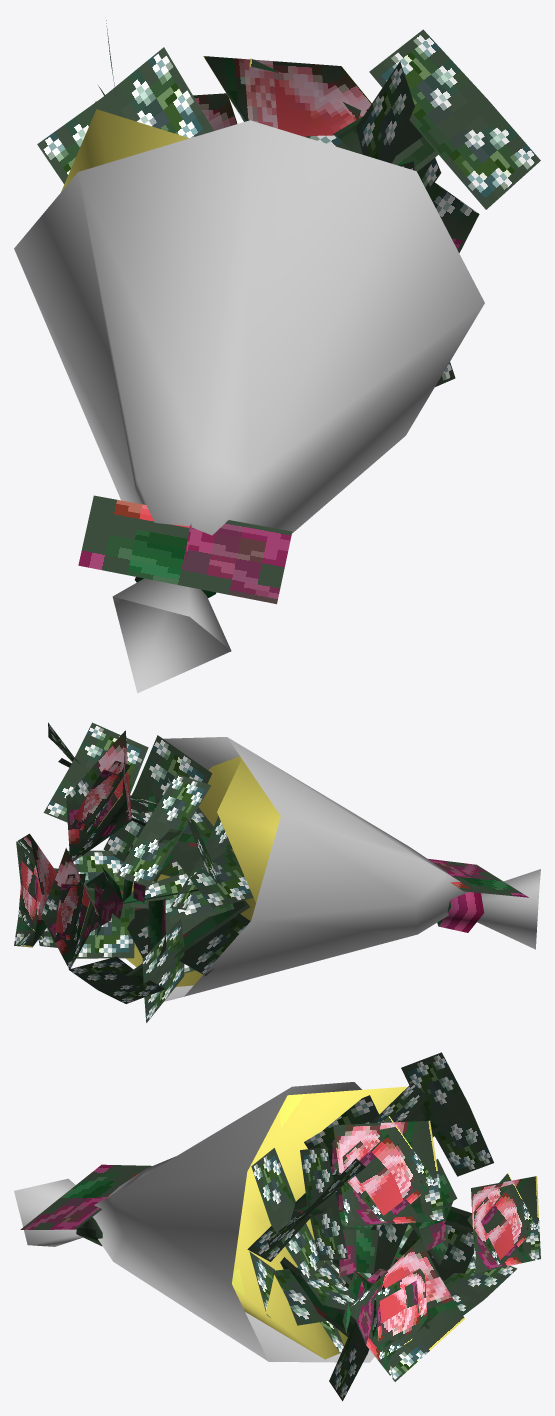
Rendered from int_oth_hanataba.dae.
The picture shows the model from 3 angles, top to bottom: view 1: azimuth 30°, elevation 25°; view 2: azimuth 150°, elevation 25°; view 3: azimuth 270°, elevation 25°; orthographic projection. The views are drawn at different scales.
Parts seen in each view (by area): view 1: int_oth_hanataba; view 2: int_oth_hanataba; view 3: int_oth_hanataba.
Part boxes in pixels (x1,y1,x2,y2): int_oth_hanataba: [14, 20, 540, 693]; int_oth_hanataba: [14, 722, 540, 1022]; int_oth_hanataba: [14, 1052, 540, 1401].
Bounding box in the file's own units: 23.6 × 15.8 × 27.1.
Materials: 2 (1 with a texture image).
